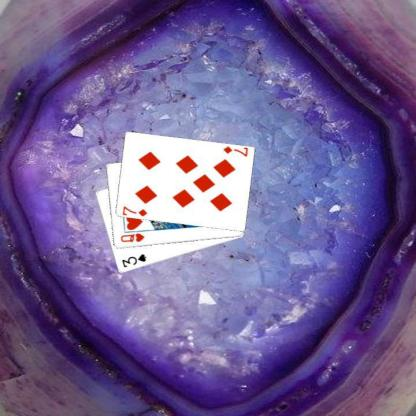3S: (119, 251, 147, 269)
7D: (120, 204, 149, 218), (221, 144, 248, 158)
QH: (118, 230, 145, 244)
